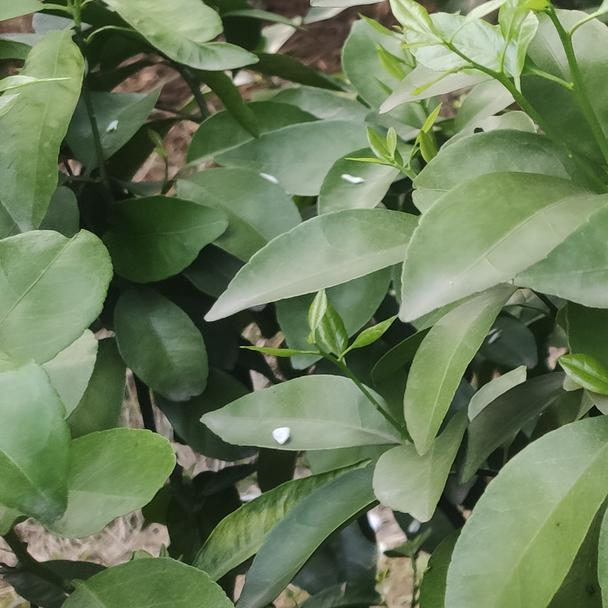shoot: (386, 2, 553, 111), (266, 291, 390, 402)
